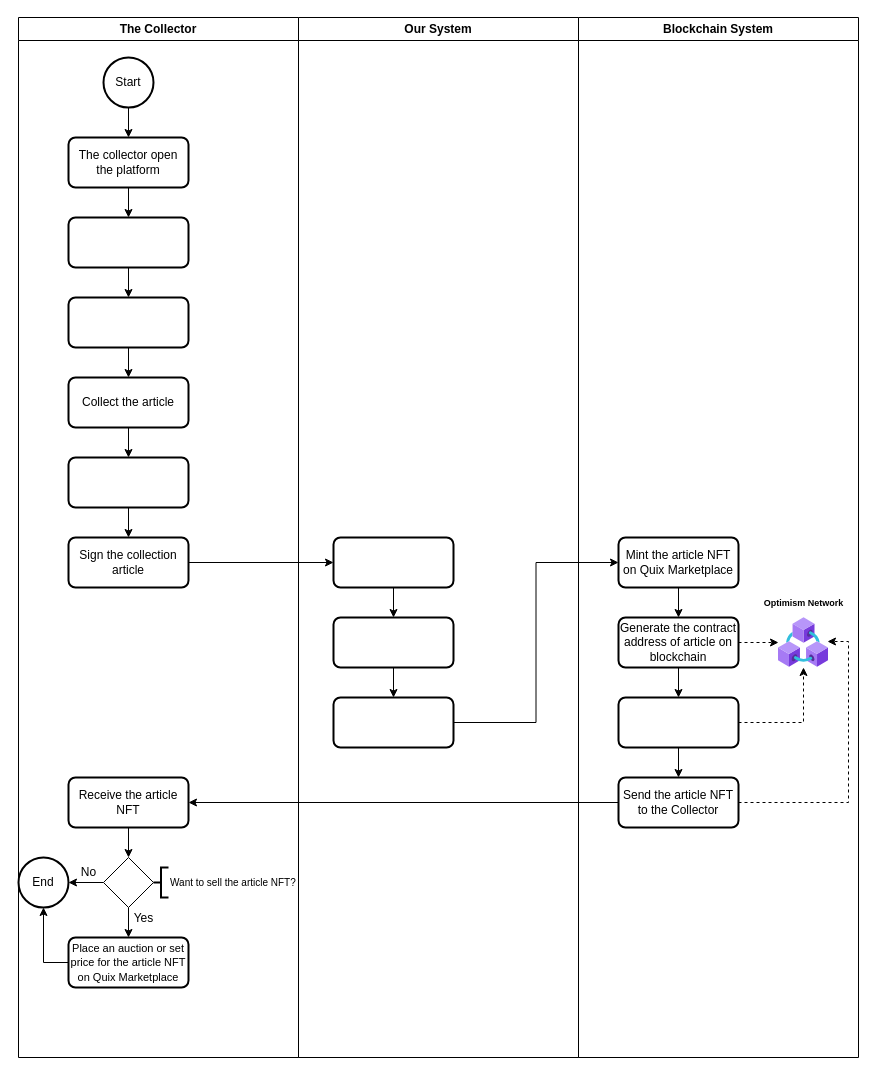
This 876x1075 diagram has some shape labels left out. Here are the shapes that lost their labels. From the top down, the centre of each, then its label:
At (128,242): "Login with Connect to Wallet (Metamask)".
At (128,322): "The collector open the article".
At (128,482): "A collector pay gas fee or article on Optimism Network".
At (393,562): "Take the 2.5% article sales".
At (393,642): "Reduce the supply of article".
At (393,722): "Adding the article to Collector's Collection".
At (678,722): "Generate the hash transaction of article NFT ownership proof".
